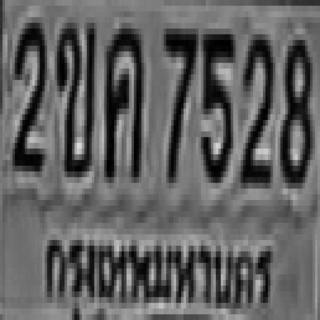A02: (55, 17, 94, 171)
A04: (103, 23, 143, 177)
N02: (238, 29, 273, 183), (10, 17, 45, 166)
N05: (198, 29, 233, 177)
N07: (161, 23, 196, 177)
N08: (278, 34, 310, 183)
P04: (36, 218, 274, 320)
